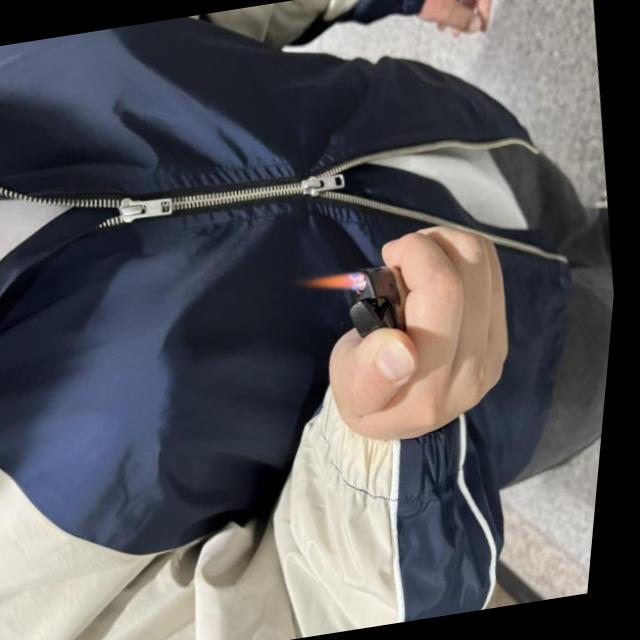Fire: (296, 264, 376, 302)
